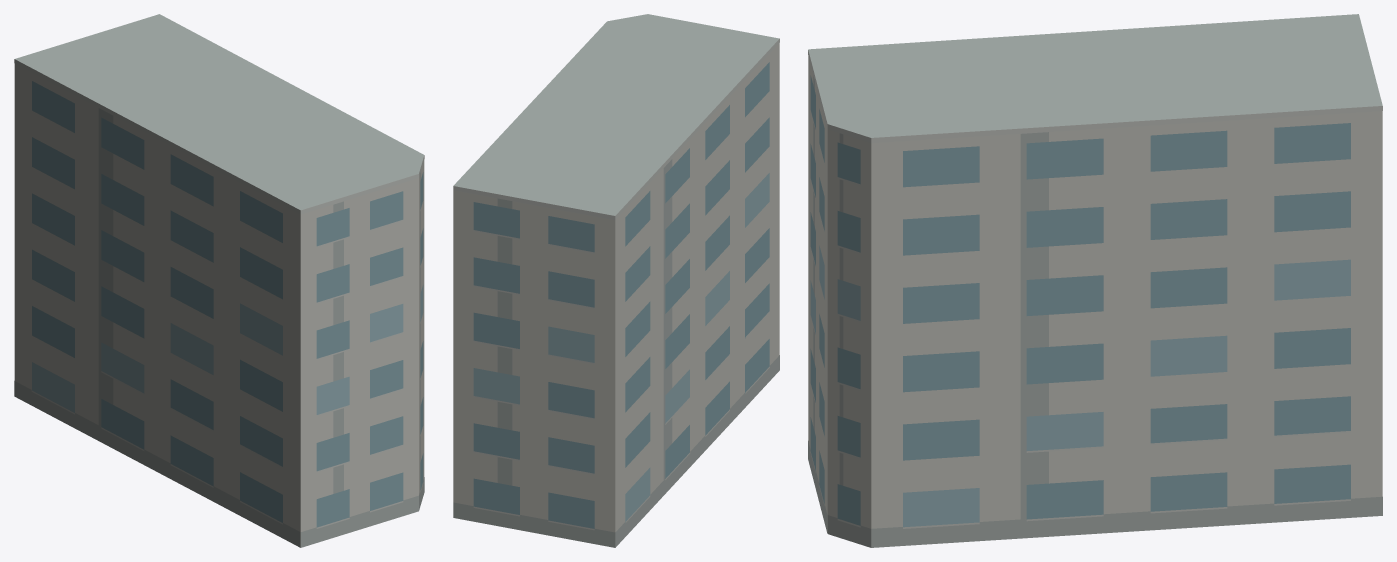
The model's file is survey-upis-32575366.glb.
3 views of the same model, side by side, from view 1: azimuth 30°, elevation 25°; view 2: azimuth 150°, elevation 25°; view 3: azimuth 270°, elevation 25° (orthographic). The views are drawn at different scales.
Parts seen in each view (by area): view 1: survey-upis-32575366.tmp; view 2: survey-upis-32575366.tmp; view 3: survey-upis-32575366.tmp.
Boxes of the visible parts, <box> form: survey-upis-32575366.tmp: <box>14,14,424,547</box>; survey-upis-32575366.tmp: <box>453,14,779,547</box>; survey-upis-32575366.tmp: <box>808,14,1382,547</box>.
Size of the model in its own units: 12.27 by 18.9 by 24.02.
